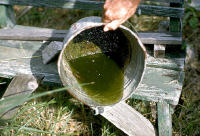container: (58, 13, 153, 112)
water: (68, 54, 129, 106)
